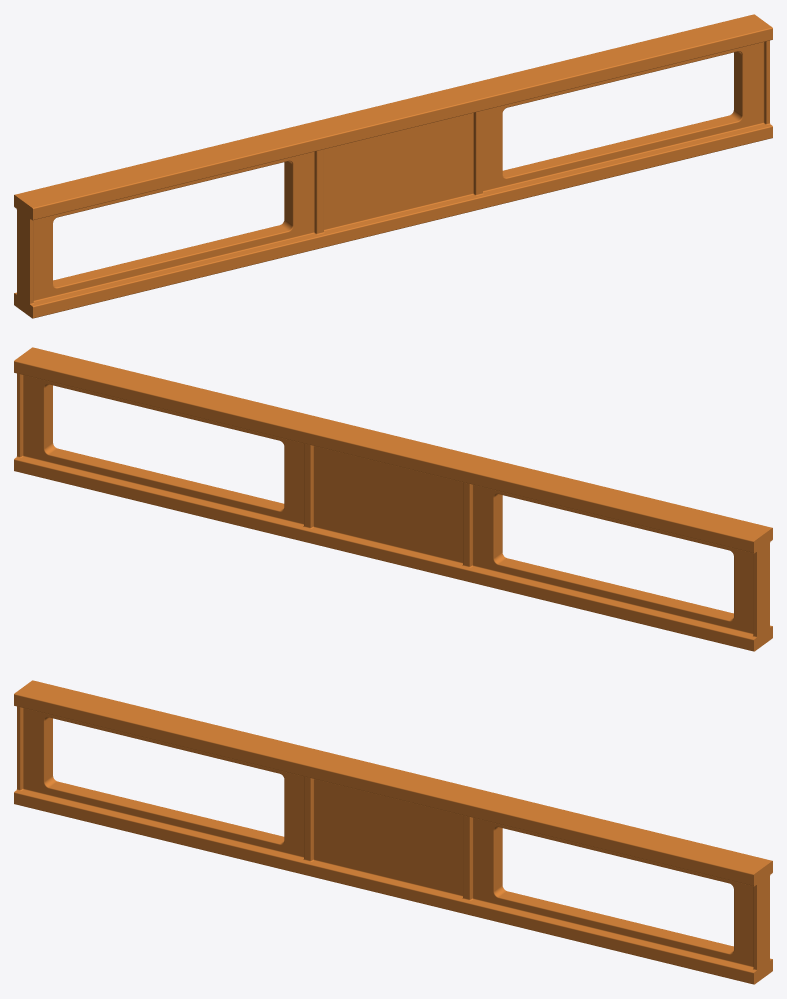
The model's file is structure_beam_center_b02.glb.
The picture shows the model from 3 angles, top to bottom: view 1: azimuth 30°, elevation 25°; view 2: azimuth 150°, elevation 25°; view 3: azimuth 330°, elevation 25°; orthographic projection.
Bounding box in the file's own units: 4 × 0.5713 × 0.1774.
